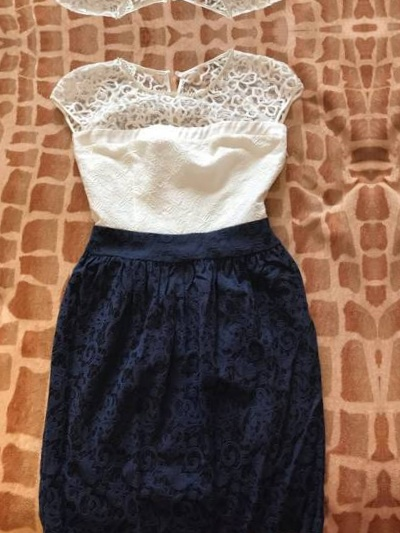Dress: (18, 34, 350, 533), (0, 0, 328, 37), (381, 0, 400, 21)
